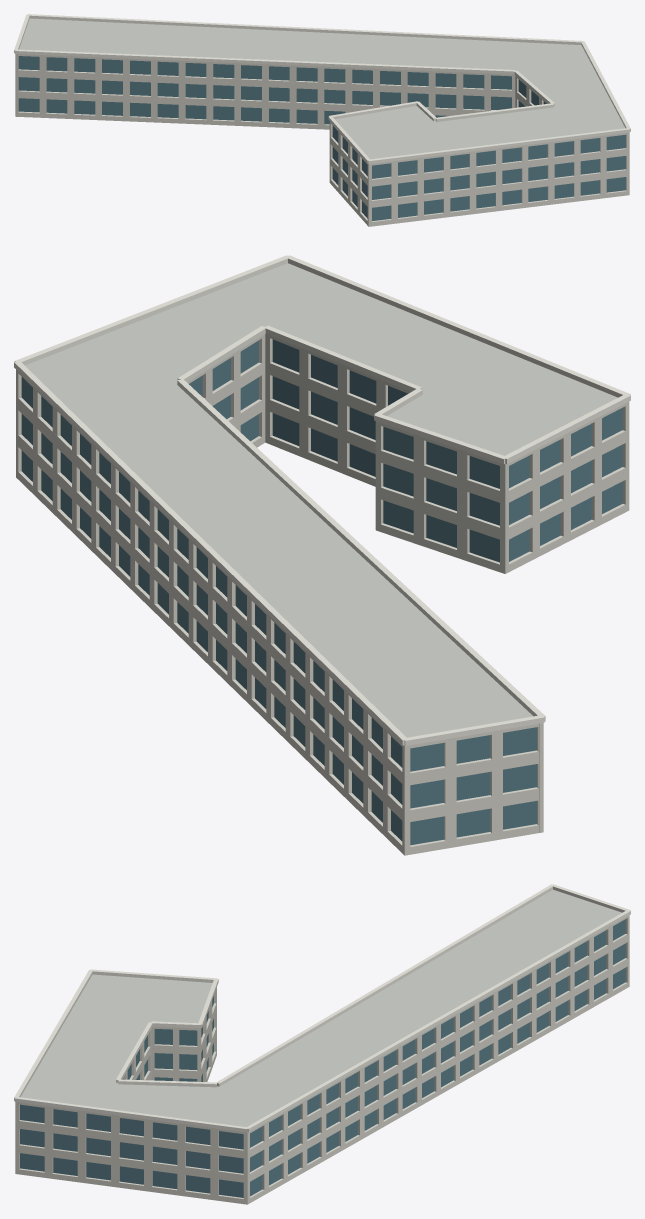
The model's file is sb_1556523922.far.glb.
3 renders of one model, top to bottom at view 1: azimuth 30°, elevation 25°; view 2: azimuth 150°, elevation 25°; view 3: azimuth 270°, elevation 25°, orthographic. The views are drawn at different scales.
Visible parts, largest first — view 1: roof, wall, glass, trim; view 2: roof, wall, glass, trim; view 3: roof, wall, glass, trim.
Part boxes in pixels (x1,y1,x2,y2): roof: [19, 18, 624, 159]; wall: [15, 54, 629, 226]; glass: [18, 56, 625, 220]; trim: [14, 14, 630, 163]; roof: [25, 263, 617, 737]; wall: [16, 333, 629, 855]; glass: [21, 339, 622, 845]; trim: [14, 255, 630, 745]; roof: [21, 889, 621, 1126]; wall: [15, 915, 629, 1204]; glass: [20, 919, 625, 1197]; trim: [14, 884, 630, 1132].
Bounding box in the file's own units: 67.22 × 9.74 × 71.56.
